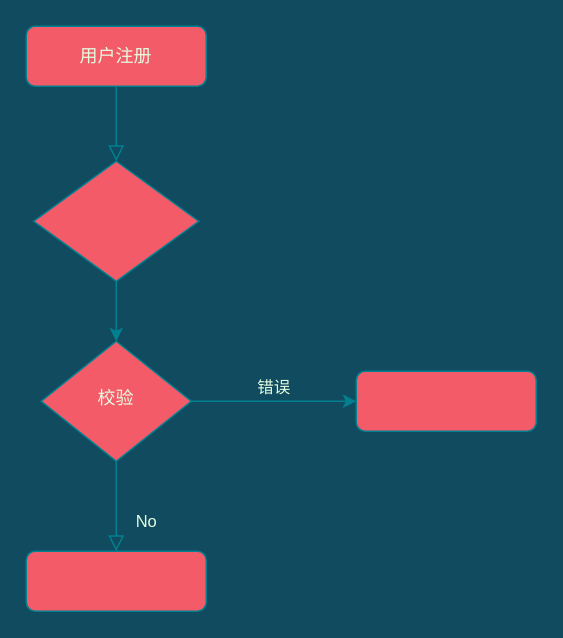
This 563x638 diagram has some shape labels left out. The shapes that lost their labels are listed below. From the top down, each one's centre as x and y in pixels, then its label:
At point (115, 220): "发送短信验证码".
At point (115, 580): "Repair Lamp".
